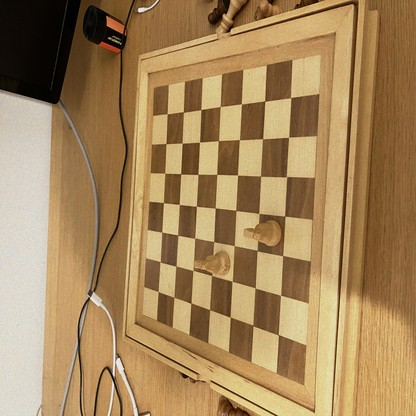knight_white: (244, 221, 281, 245), (194, 251, 230, 275)
